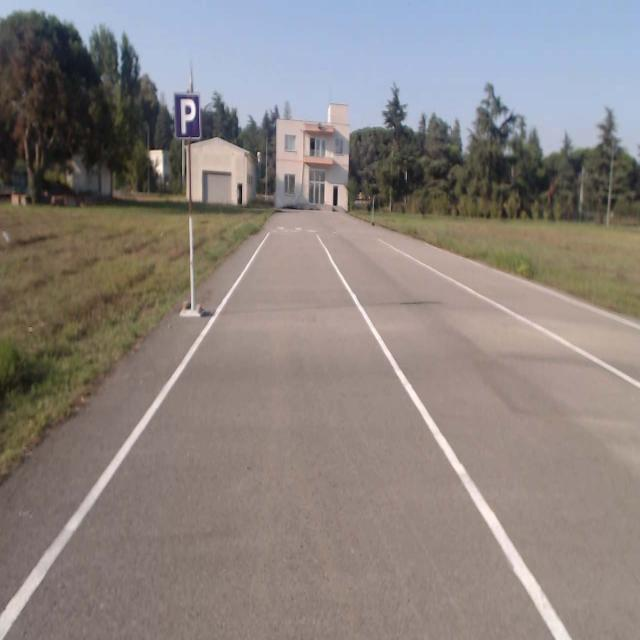park: (174, 93, 200, 139)
